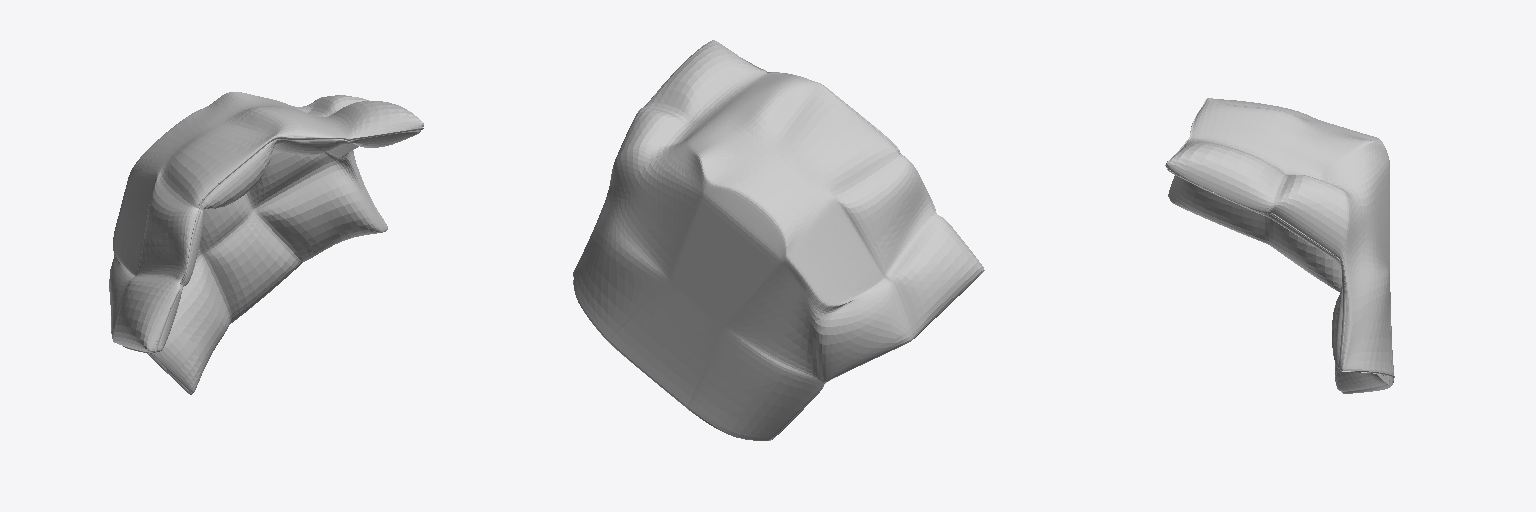
File: chair.obj
3 renders of one model, left to right at view 1: azimuth 30°, elevation 25°; view 2: azimuth 150°, elevation 25°; view 3: azimuth 270°, elevation 25°, orthographic.
Size of the model in its own units: 1.55 by 1.4 by 0.9432.